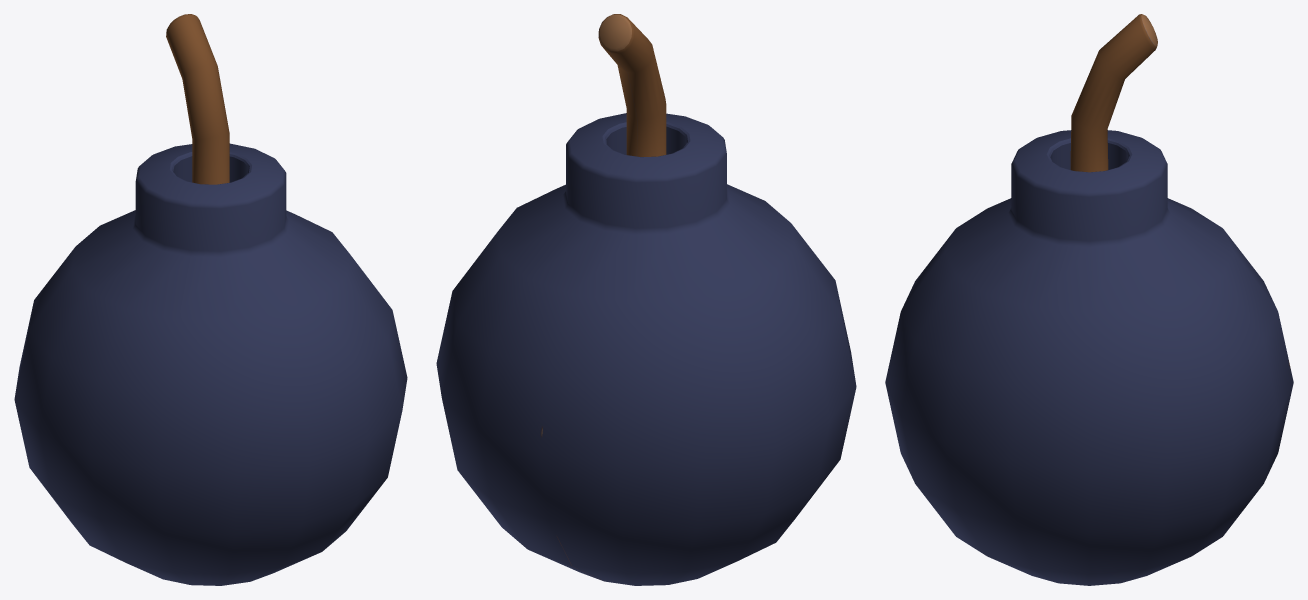
The model's file is bombe.fbx.
3 renders of one model, left to right at view 1: azimuth 30°, elevation 25°; view 2: azimuth 150°, elevation 25°; view 3: azimuth 270°, elevation 25°, orthographic. The views are drawn at different scales.
Parts seen in each view (by area): view 1: Sphere001; view 2: Sphere001; view 3: Sphere001.
Part boxes in pixels (<box>): Sphere001: <box>14,14,407,585</box>; Sphere001: <box>436,14,856,585</box>; Sphere001: <box>885,14,1293,585</box>.
Size of the model in its own units: 60 by 87.14 by 60.
1 material, 1 textured.
